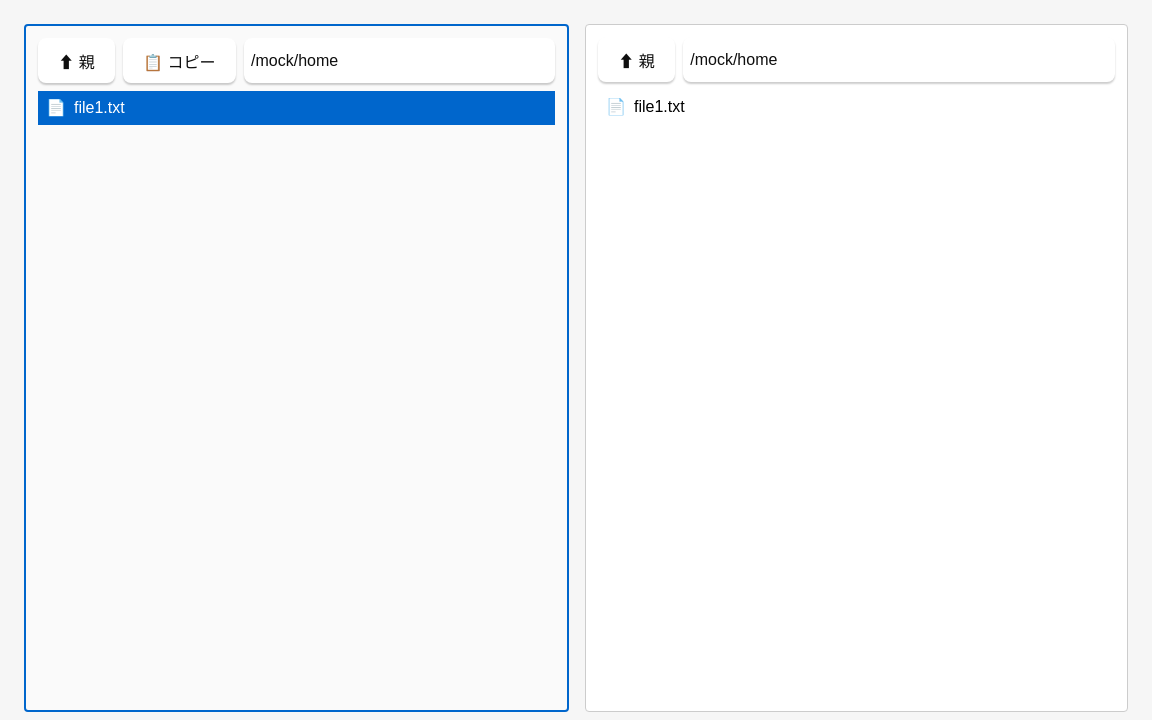
Test: App (Dual Pane) › 異常系: copy_item 実行時にエラーが発生した場合にエラーメッセージが表示されること
Click the button "📋 コピー" at (179, 61), box [123,38,236,83]
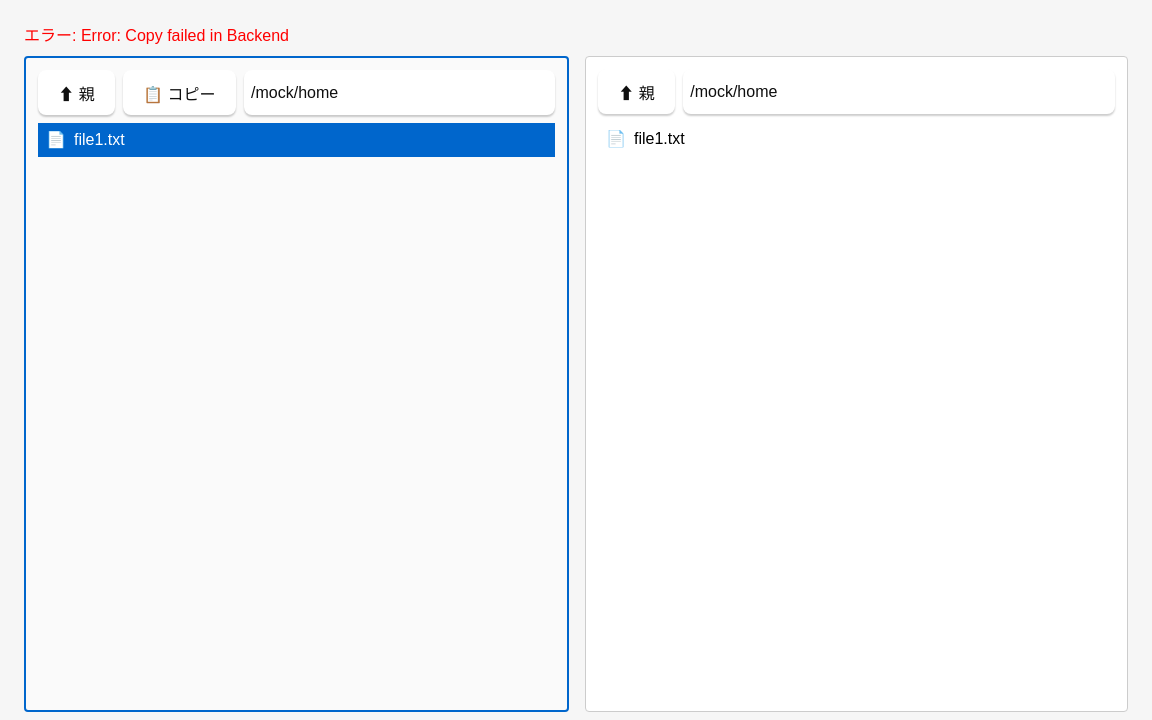
Now the text "エラー: Error: Copy failed in Backend" is shown, box [24,27,289,44]
